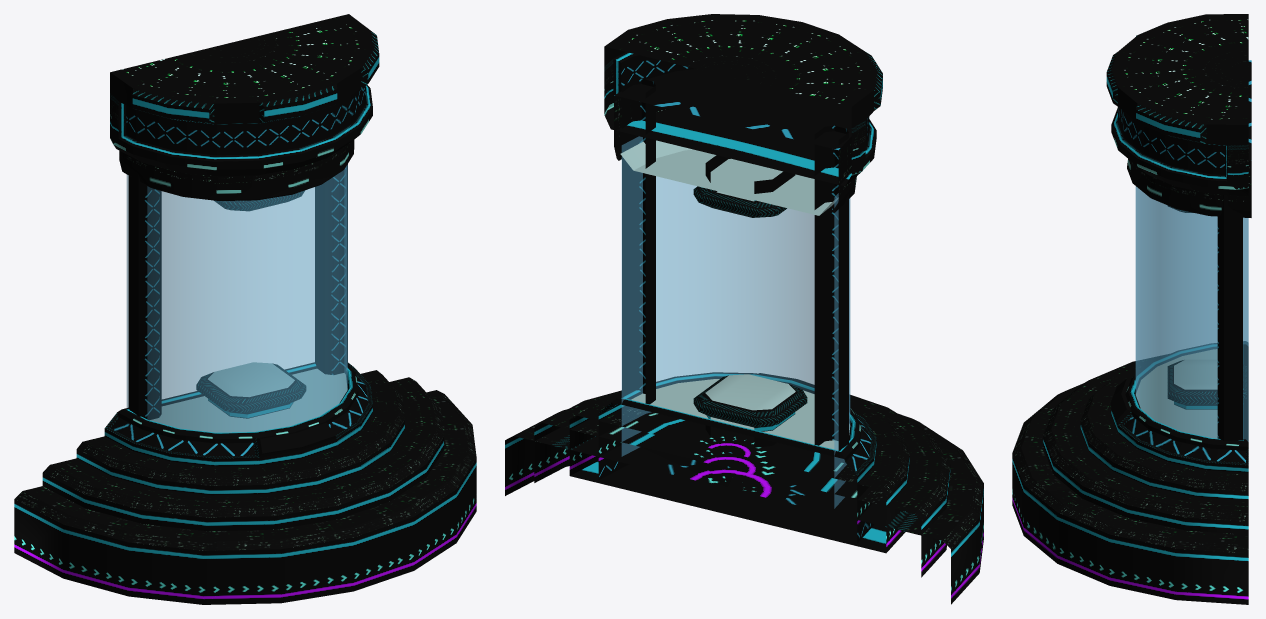
The model's file is Capsule_Avatar_Art.fbx.
3 views of the same model, side by side, from view 1: azimuth 30°, elevation 25°; view 2: azimuth 150°, elevation 25°; view 3: azimuth 270°, elevation 25° (orthographic). The views are drawn at different scales.
Visible parts, largest first — view 1: Capsule_Avatar; view 2: Capsule_Avatar; view 3: Capsule_Avatar.
Part boxes in pixels (box(x1,y1,x2,y2)): Capsule_Avatar: box(14, 14, 476, 604); Capsule_Avatar: box(505, 14, 983, 604); Capsule_Avatar: box(1012, 14, 1251, 604).
Size of the model in its own units: 6.07 by 6.17 by 3.07.
